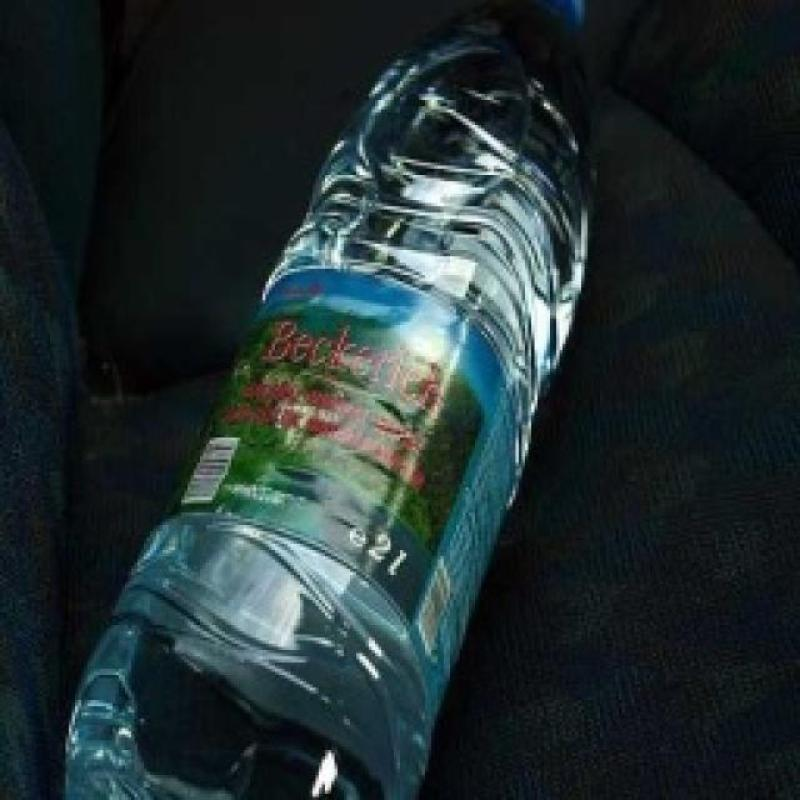botella: (64, 0, 598, 800)
